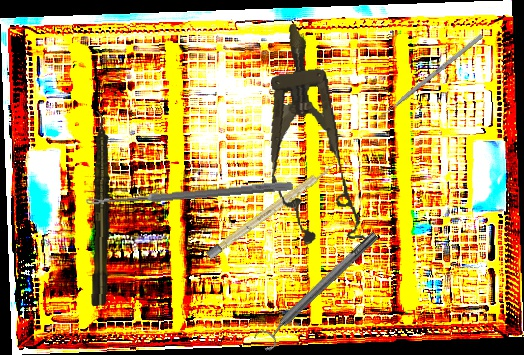Fixation Ring: (251, 226, 386, 354)
Handpiece: (90, 110, 112, 307)
Pusher: (373, 33, 484, 124)
Scalpel Handle: (205, 163, 334, 260)
Speculum: (250, 18, 367, 251)
Surgical Spoon: (85, 179, 294, 209)
